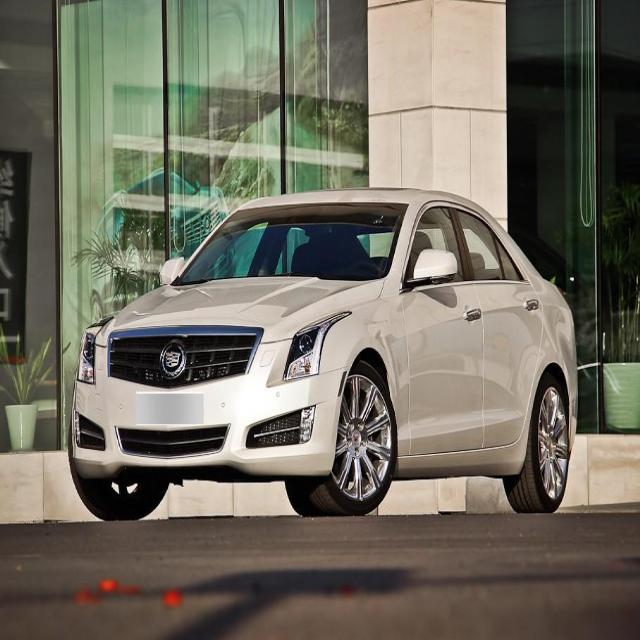door: (455, 205, 543, 452)
front_bumper: (71, 342, 348, 474)
front_glass: (182, 198, 408, 286)
front_left_side_door: (401, 197, 489, 461)
front_left_side_light: (281, 308, 348, 385)
front_left_side_mirror: (414, 247, 459, 290)
front_right_side_light: (77, 327, 101, 386)
front_right_side_mirror: (155, 250, 183, 288)
wheel: (308, 367, 398, 510), (510, 372, 572, 507), (74, 456, 170, 520)
